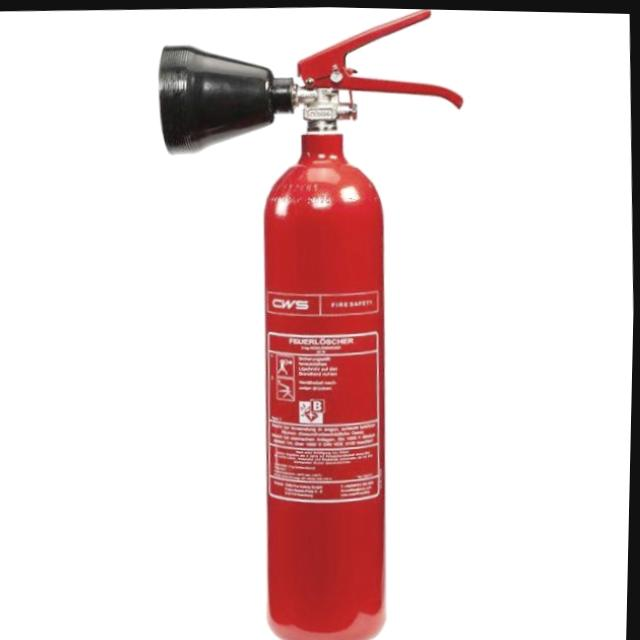FireExtinguisher: (137, 3, 489, 639)
